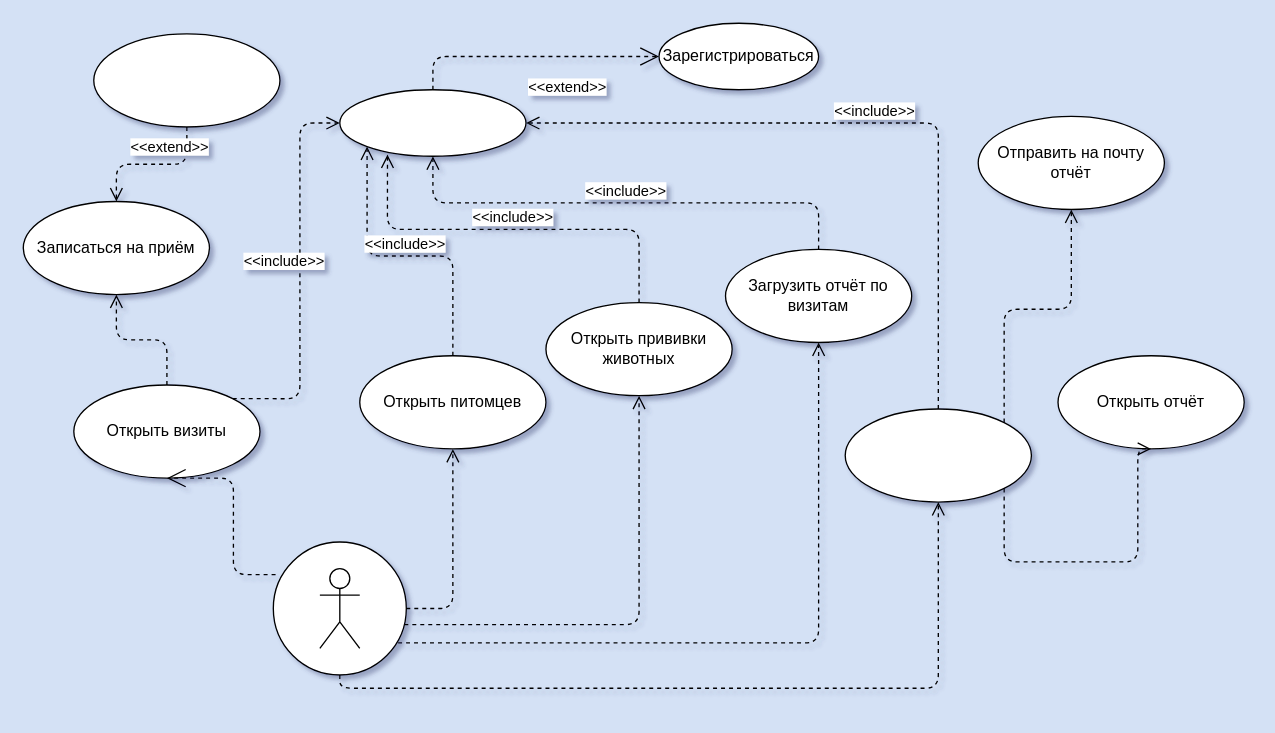
Image size: 1275x733. Some labels were removed from this diagram. Each missing label, with the box of its shape:
Actor: (319, 567, 360, 648)
Авторизироваться: (338, 88, 526, 156)
Добавить животного на приём: (92, 33, 280, 127)
Загрузить отчёт за период: (844, 408, 1031, 502)
